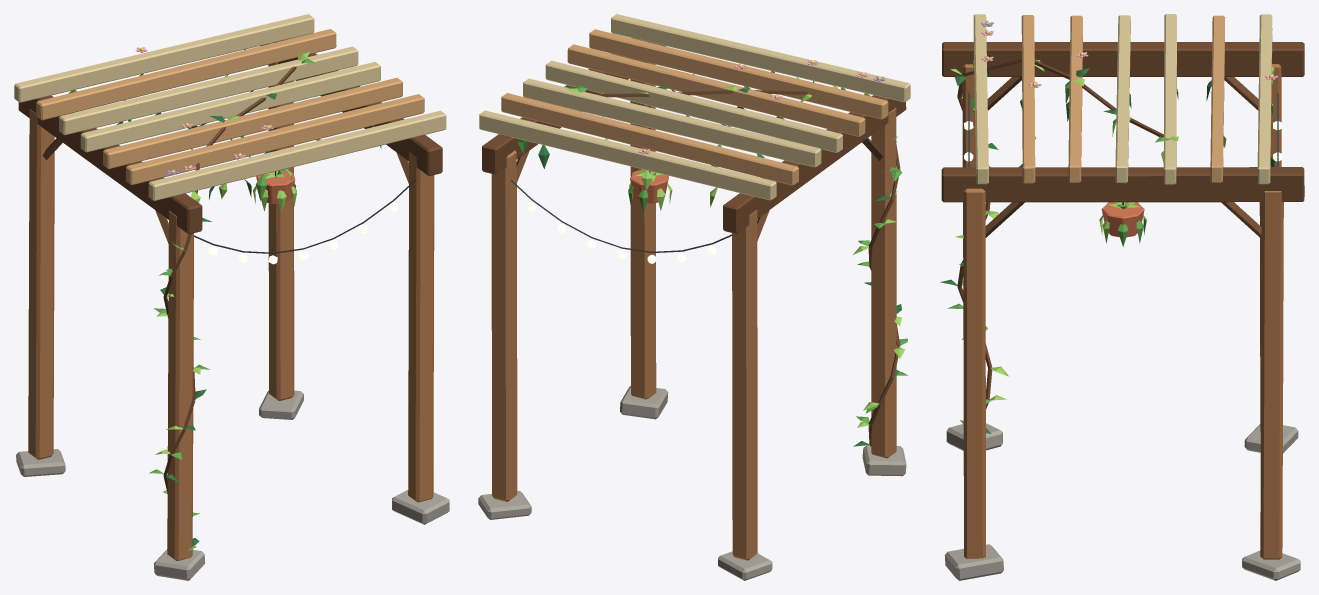
Rendered from pergola.glb.
3 views of the same model, side by side, from view 1: azimuth 30°, elevation 25°; view 2: azimuth 150°, elevation 25°; view 3: azimuth 270°, elevation 25° (orthographic). The views are drawn at different scales.
Visible parts, largest first — view 1: Pergola; view 2: Pergola; view 3: Pergola.
Boxes of the visible parts, x1,y1,x2,y2 form: Pergola: (14, 14, 449, 580); Pergola: (478, 14, 910, 580); Pergola: (940, 14, 1304, 580).
Size of the model in its own units: 2.31 by 2.97 by 2.32.
2 materials, 1 textured.
